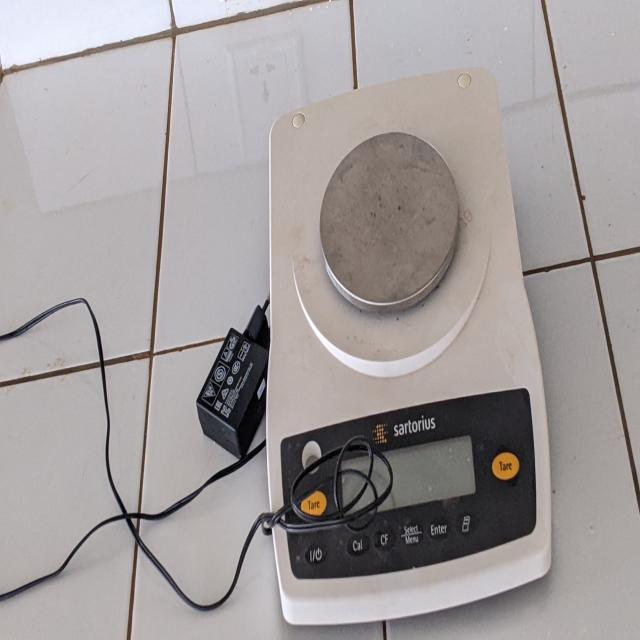Electronic Balance: (260, 38, 564, 621)
